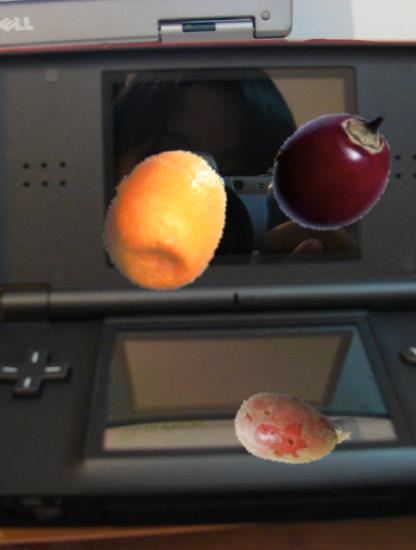Kumquats: (94, 146, 241, 293)
Pitahaya: (270, 131, 366, 227)
Potato: (231, 373, 350, 492)
Tamarillo: (266, 101, 401, 236)
